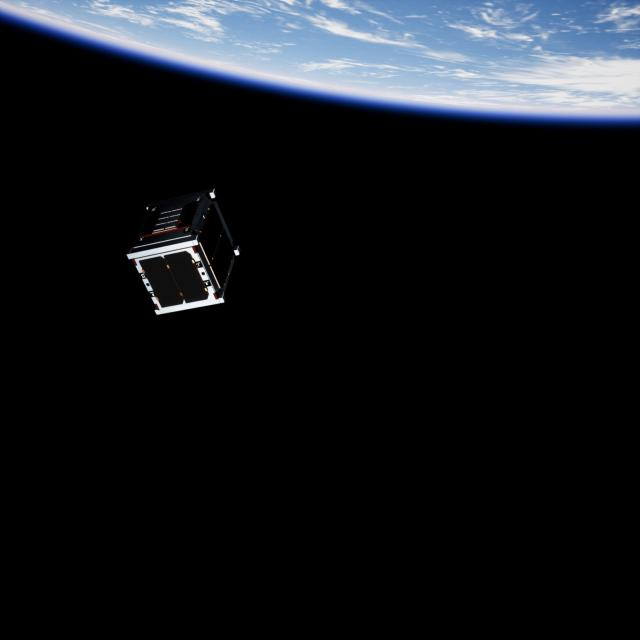medium_debris: (127, 181, 244, 317)
